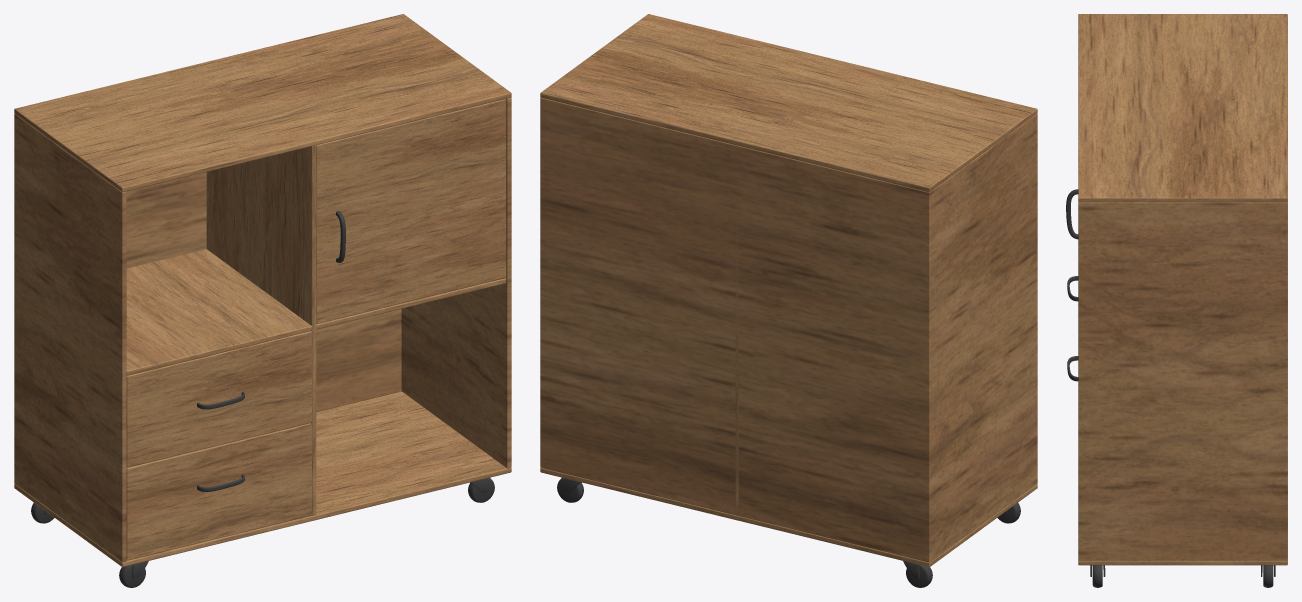
File: classic-bookcase-002.glb
3 views of the same model, side by side, from view 1: azimuth 30°, elevation 25°; view 2: azimuth 150°, elevation 25°; view 3: azimuth 270°, elevation 25° (orthographic). The views are drawn at different scales.
Parts seen in each view (by area): view 1: Cube.001, Cube, Cube.004, Cube.005, Cube.002, Cube.003, Circle; view 2: Cube.001, Cube, Circle, Cube.003; view 3: Cube.001, Cube, Circle, BezierCurve.002.
Boxes of the visible parts, box(x1,y1,x2,y2) form: Cube.001: box(14, 97, 511, 562); Cube: box(14, 14, 511, 567); Cube.004: box(126, 331, 311, 560); Cube.005: box(316, 99, 506, 323); Cube.002: box(126, 249, 506, 375); Cube.003: box(206, 145, 316, 515); Circle: box(31, 477, 494, 587); Cube.001: box(540, 97, 1037, 562); Cube: box(540, 14, 1037, 567); Circle: box(557, 477, 1020, 587); Cube.003: box(735, 145, 738, 515); Cube.001: box(1078, 202, 1287, 560); Cube: box(1078, 14, 1287, 565); Circle: box(1090, 565, 1275, 587); BezierCurve.002: box(1066, 189, 1078, 239).
Size of the model in its own units: 0.8 by 0.8072 by 0.4072.
Materials: 2 (1 with a texture image).
